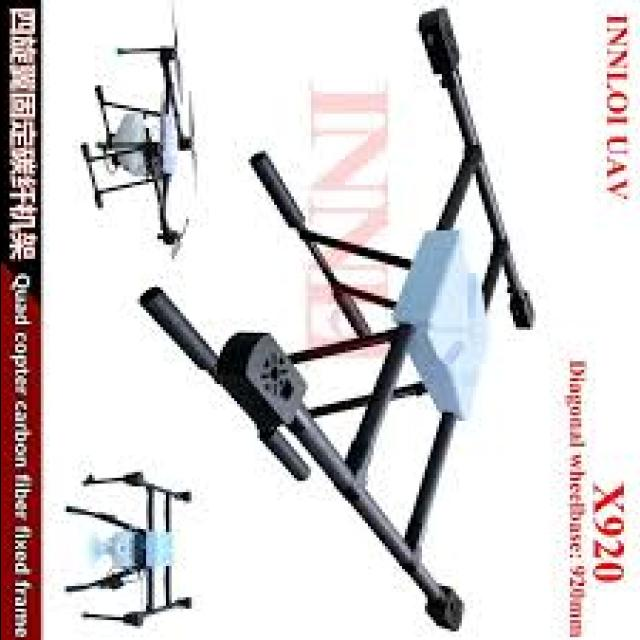drone: (142, 2, 542, 626), (64, 16, 218, 262), (55, 464, 204, 627)
